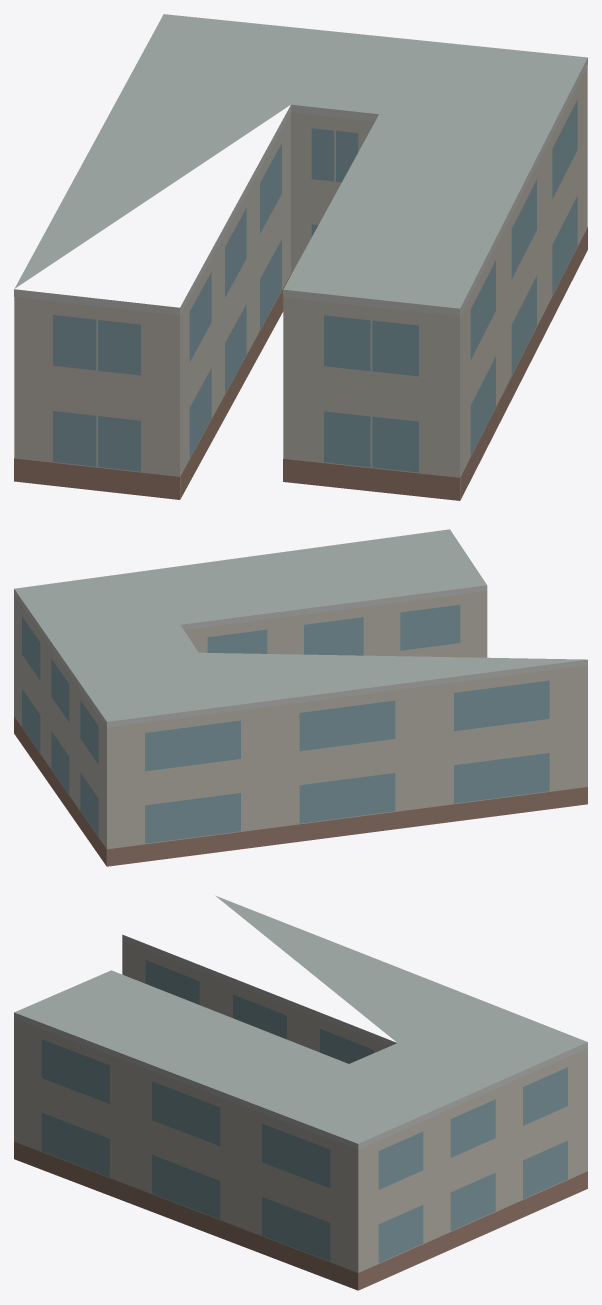
Rendered from survey-upis-32756269.glb.
The picture shows the model from 3 angles, top to bottom: view 1: azimuth 30°, elevation 25°; view 2: azimuth 150°, elevation 25°; view 3: azimuth 270°, elevation 25°; orthographic projection. The views are drawn at different scales.
Visible parts, largest first — view 1: survey-upis-32756269.tmp; view 2: survey-upis-32756269.tmp; view 3: survey-upis-32756269.tmp.
Part boxes in pixels (bbox=[...]): survey-upis-32756269.tmp: bbox=[14, 14, 587, 500]; survey-upis-32756269.tmp: bbox=[14, 529, 587, 866]; survey-upis-32756269.tmp: bbox=[14, 895, 587, 1290].
Bounding box in the file's own units: 22.18 × 6.1 × 21.64.
